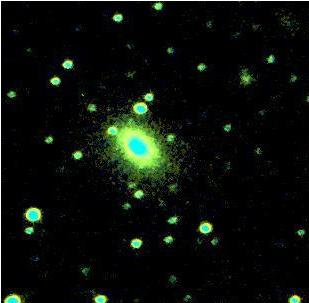star: (102, 132, 132, 162)
